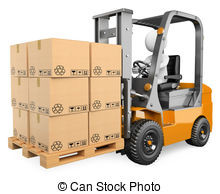box: (27, 37, 92, 76), (28, 76, 90, 115), (93, 42, 123, 76), (92, 76, 121, 110), (91, 112, 124, 140), (8, 39, 26, 74), (7, 77, 28, 106), (13, 108, 31, 139)
